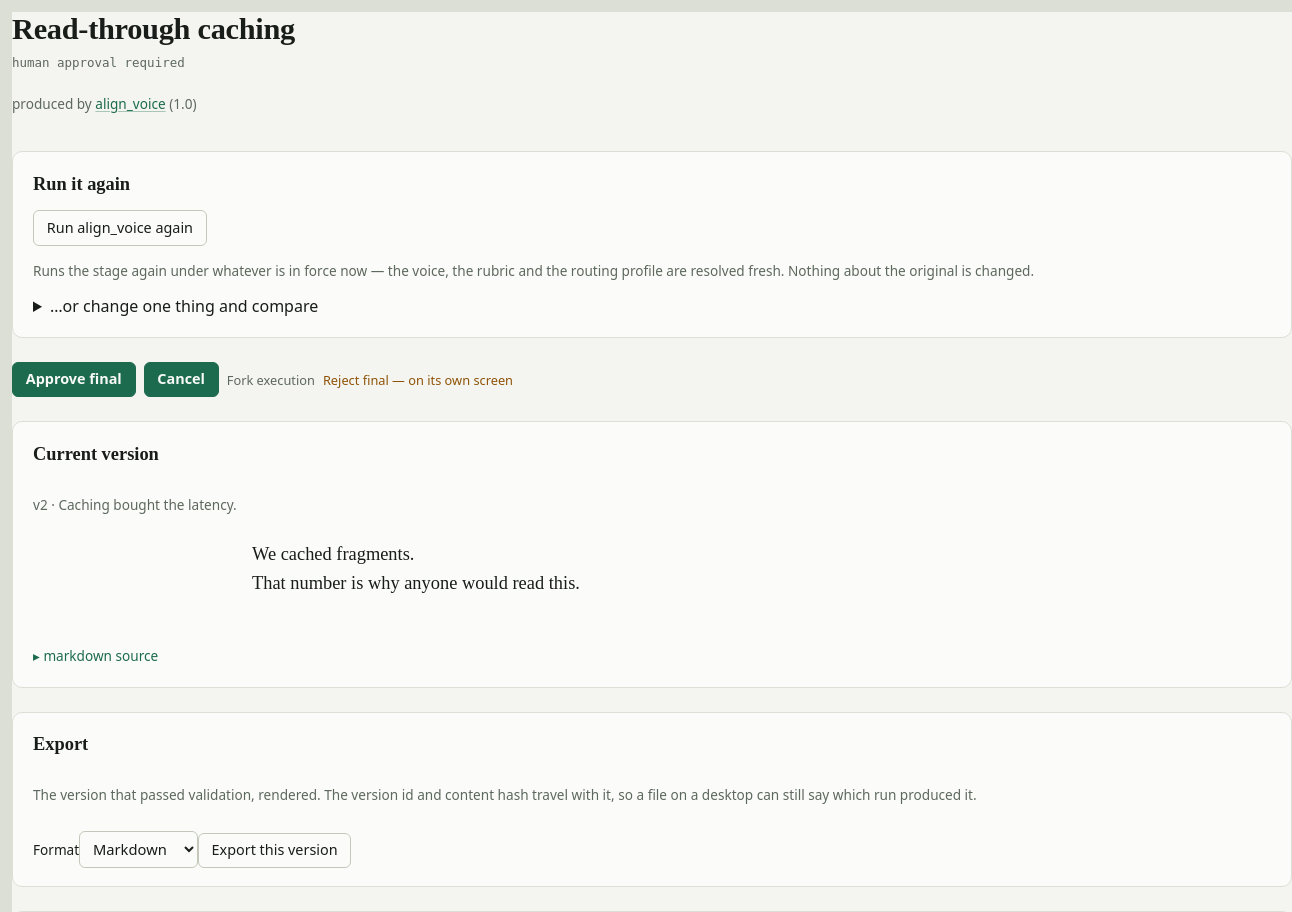
Scenario: running a version again › replays the execution that produced it, under whatever is in force now
The width and height of the screenshot is (1292, 912).
Click the button "Run align_voice again".
click(120, 228)  # box left=33, top=210, right=207, bottom=246
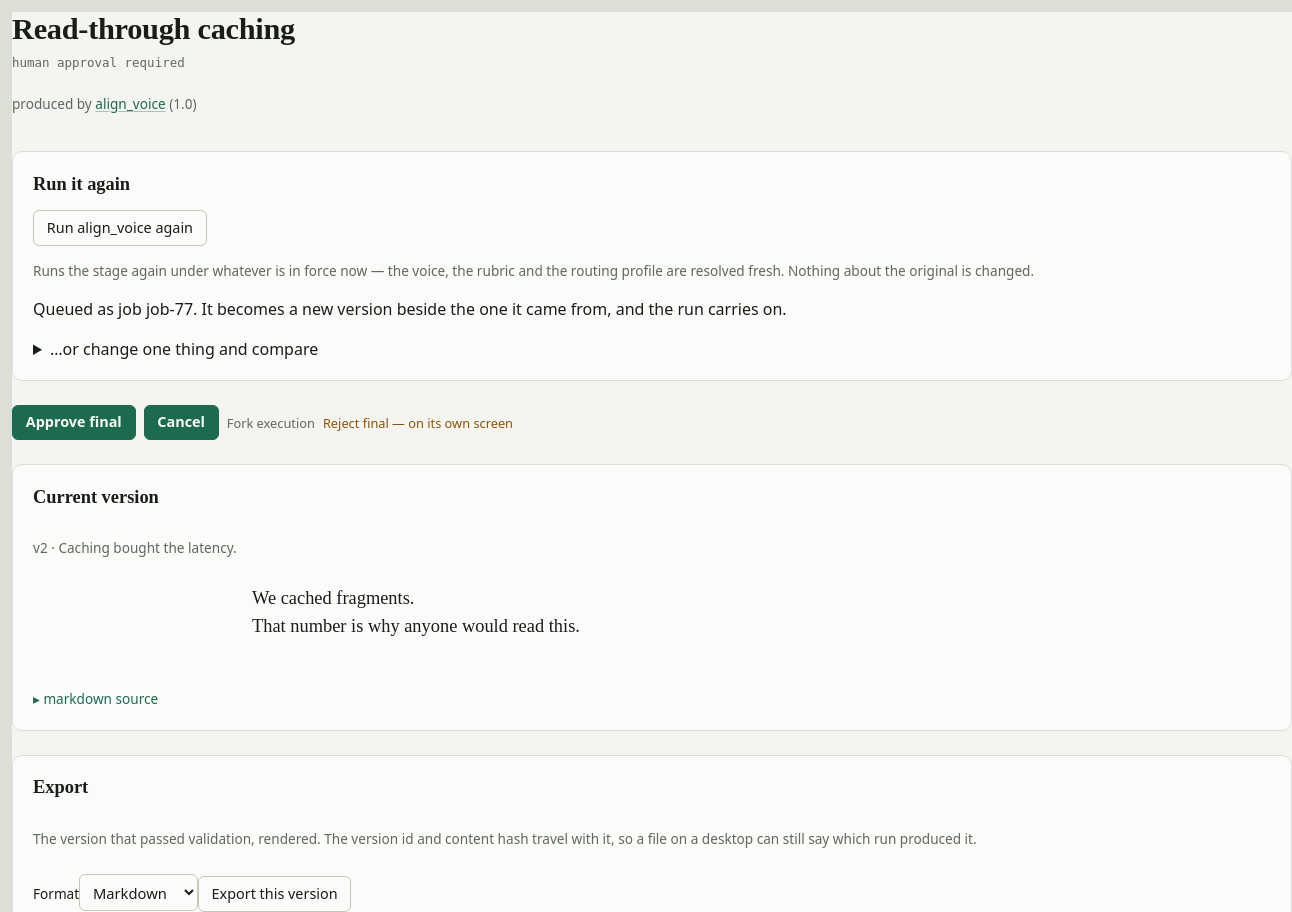
Now the message shows "job-77", box left=146, top=298, right=193, bottom=320
